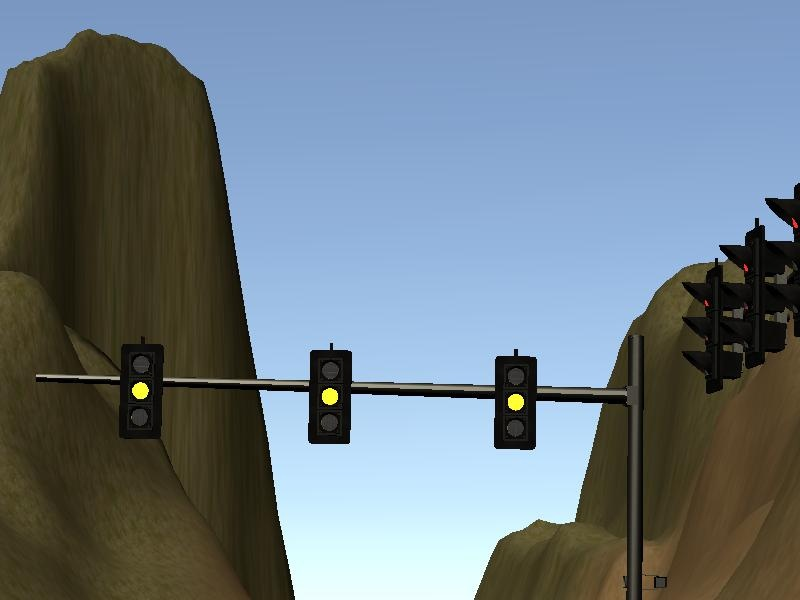YELLOW: (117, 344, 161, 440), (309, 348, 353, 444), (493, 353, 537, 449)
